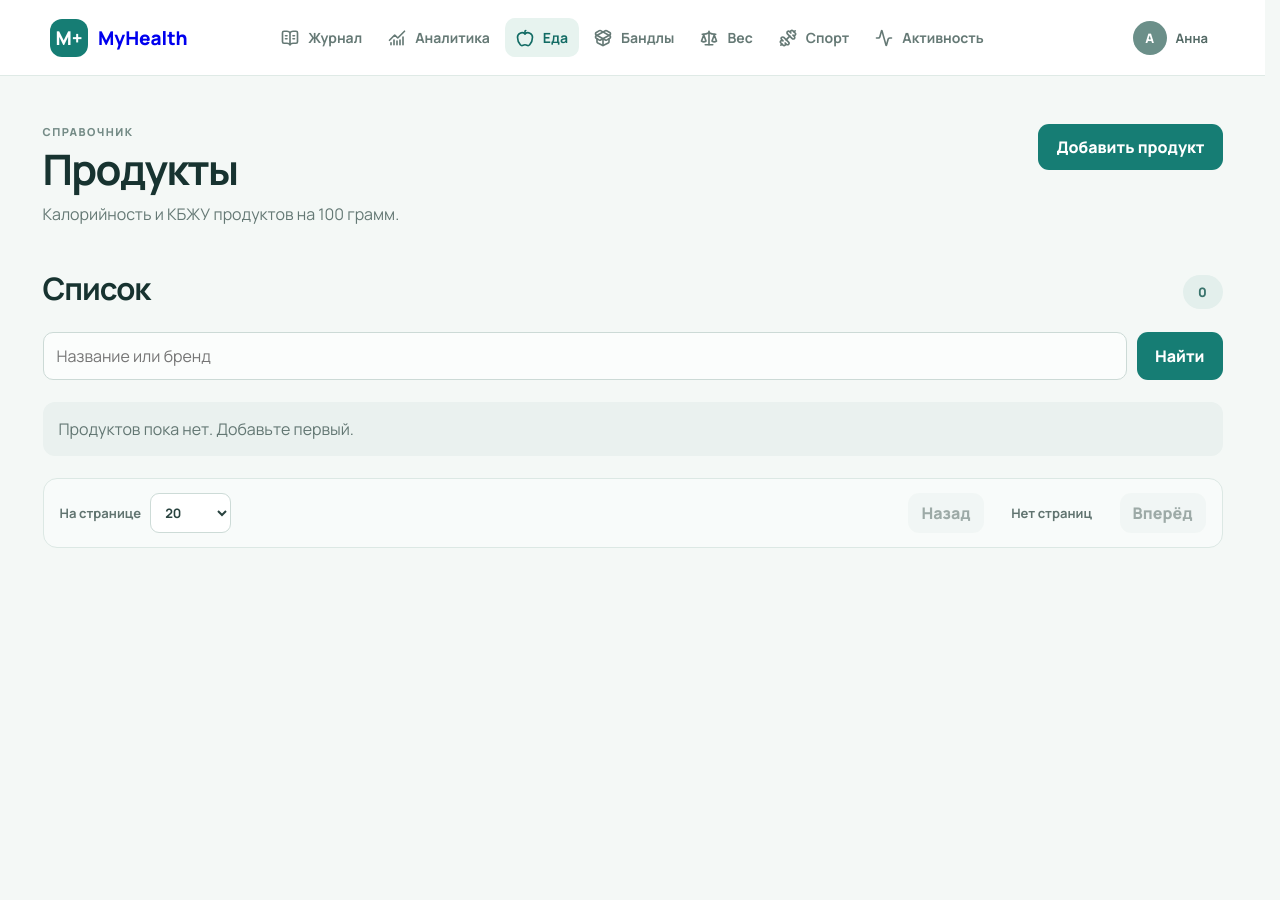
Scenario: MyHealth SPA › ищет продукты через API
Expected: the text "Продуктов пока нет. Добавьте первый." is shown, top-left (42, 402), bottom-right (1222, 456)
Type "Творог 5%" into the field named "Поиск продуктов". click: (585, 356)
box: top-left (42, 332), bottom-right (1127, 380)
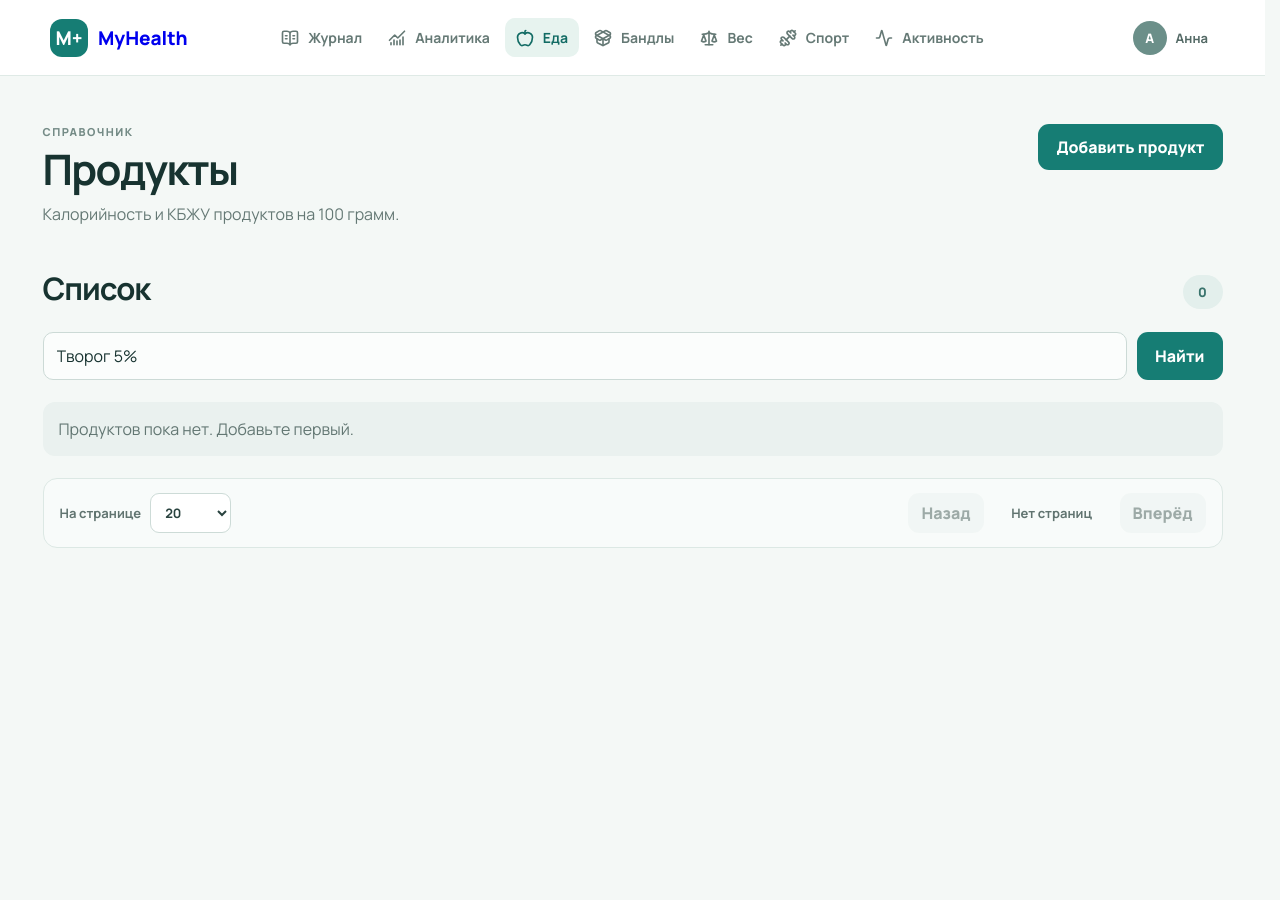
Click the button "Найти". click: (1180, 356)
box: top-left (1137, 332), bottom-right (1222, 380)
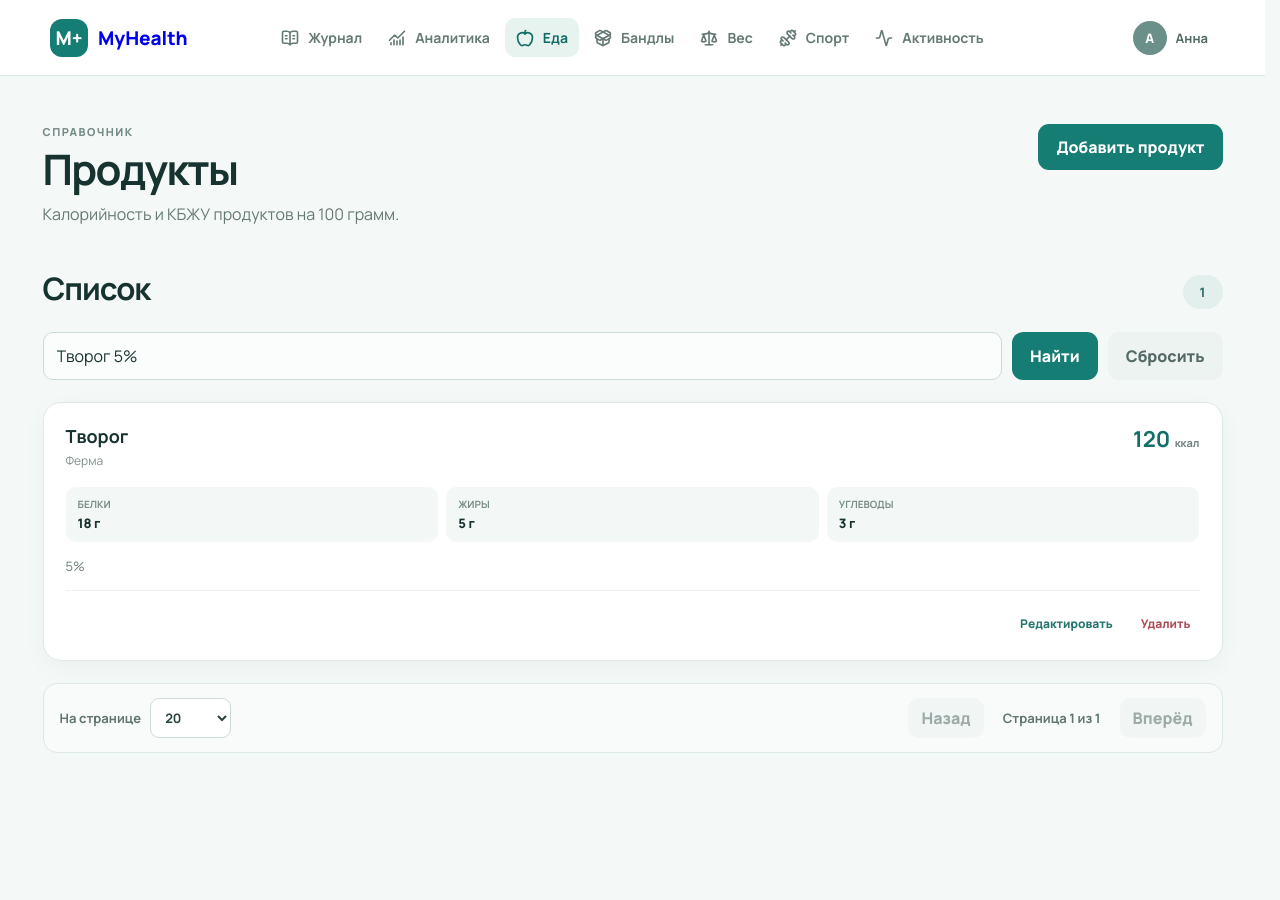
Now the heading "Творог" is shown, box top-left (66, 424), bottom-right (128, 448)
